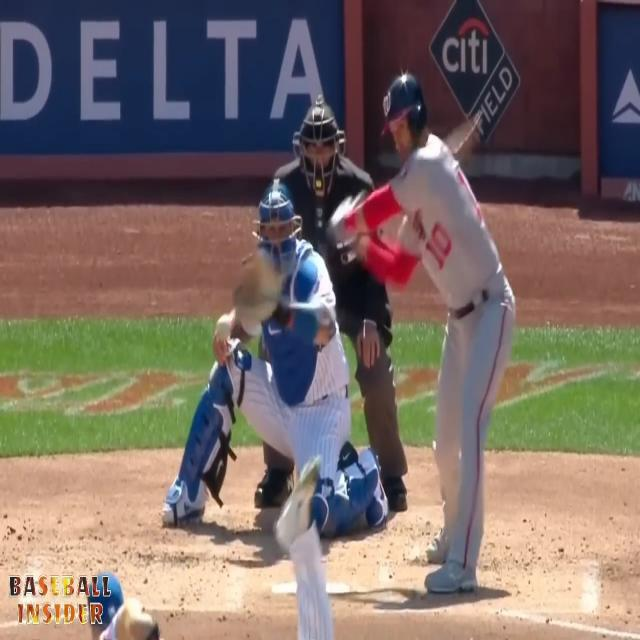baseball: (216, 316, 230, 339)
